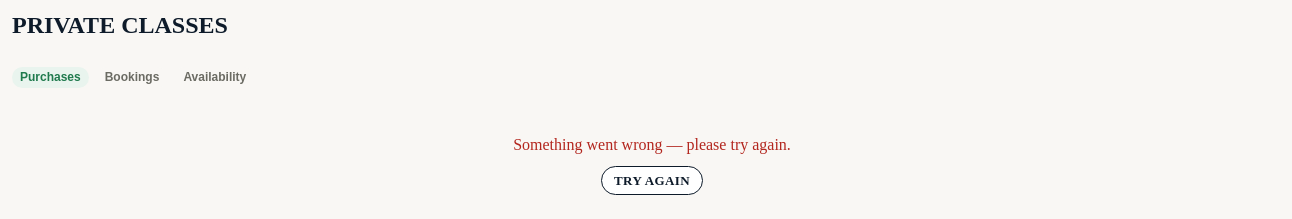
AdminPrivateClassesPage › renders LoadError with a working retry when a tab fails to load
The width and height of the screenshot is (1292, 219).
Expected: the message "Something went wrong — please try again. Try again" is shown, [513,136,791,195]
Click the button "Try again". click: (652, 181)
box: [601,166,703,195]
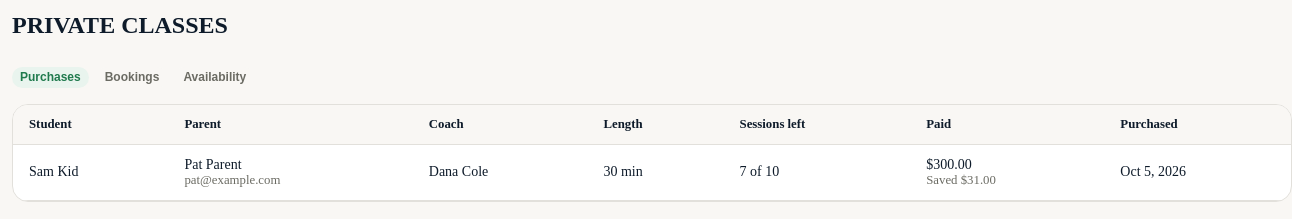
Now the text "Sam Kid" is shown, box [13,144,168,200]
